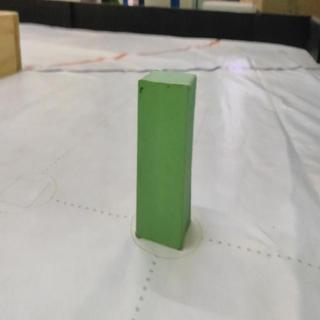greenbox: (135, 69, 199, 251)
